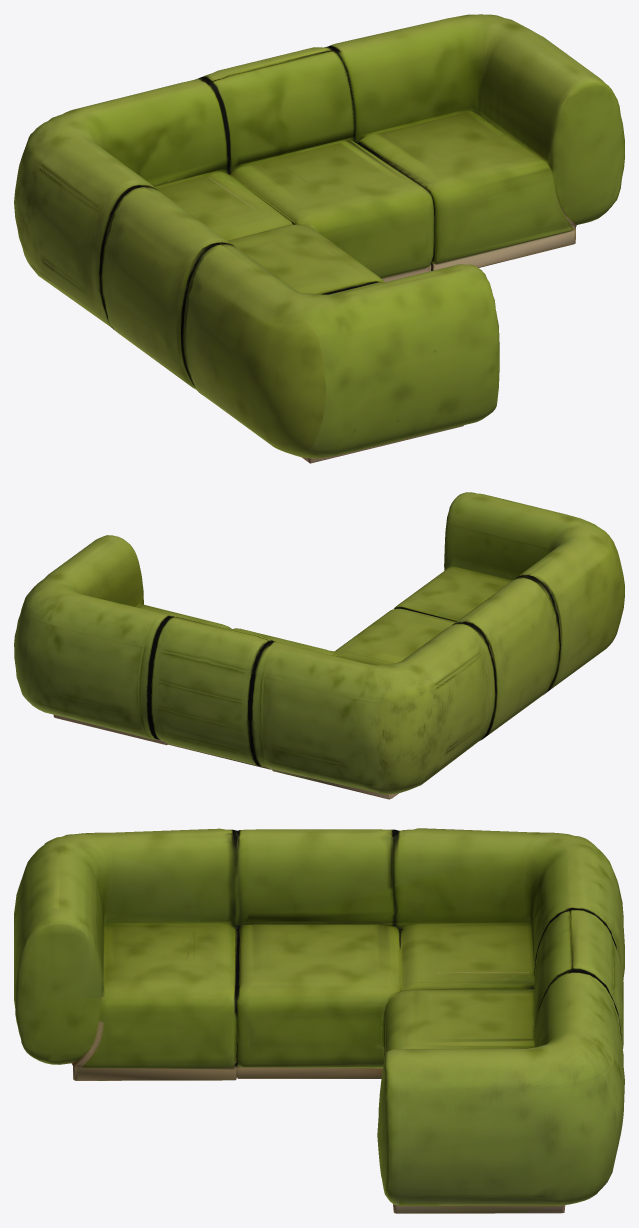
File: green_corner_comfort_0127183018_texture.glb
3 views of the same model, one above another, from view 1: azimuth 30°, elevation 25°; view 2: azimuth 150°, elevation 25°; view 3: azimuth 270°, elevation 25° (orthographic). The views are drawn at different scales.
Visible parts, largest first — view 1: Mesh_0; view 2: Mesh_0; view 3: Mesh_0.
Part boxes in pixels (<box>): Mesh_0: <box>14,14,624,463</box>; Mesh_0: <box>14,492,624,799</box>; Mesh_0: <box>14,828,624,1213</box>.
Bounding box in the file's own units: 2.66 × 0.8128 × 2.65.
Materials: 1 (1 with a texture image).
